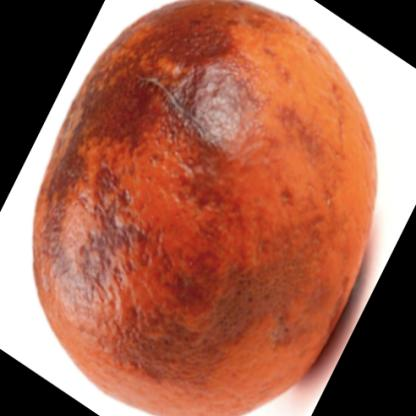rotten: (34, 1, 379, 416)
